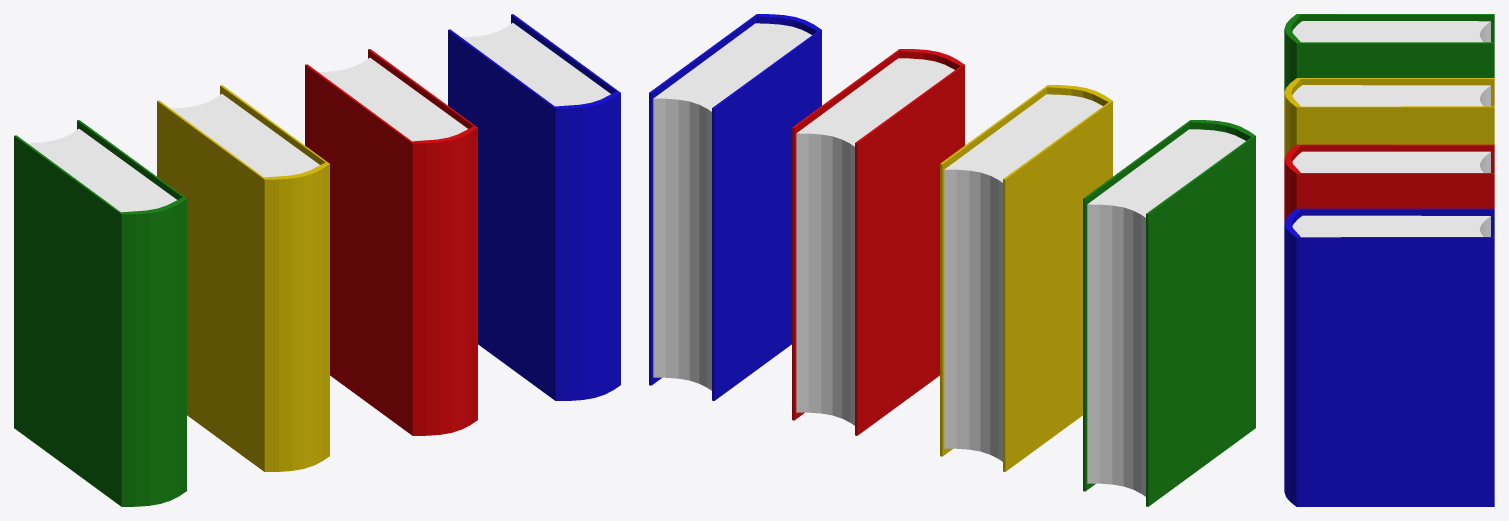
The model's file is libro.fbx.
3 views of the same model, side by side, from view 1: azimuth 30°, elevation 25°; view 2: azimuth 150°, elevation 25°; view 3: azimuth 270°, elevation 25° (orthographic). The views are drawn at different scales.
Parts seen in each view (by area): view 1: Cube.004, Cube.002, Cube.003, Cube.001; view 2: Cube.004, Cube.002, Cube.001, Cube.003; view 3: Cube.001, Cube.003, Cube.002, Cube.004.
Boxes of the visible parts, x1=… form: Cube.004: x1=14, y1=120, x2=186, y2=506; Cube.002: x1=305, y1=49, x2=477, y2=435; Cube.003: x1=157, y1=85, x2=329, y2=471; Cube.001: x1=448, y1=14, x2=620, y2=400; Cube.004: x1=1083, y1=120, x2=1255, y2=506; Cube.002: x1=792, y1=49, x2=964, y2=435; Cube.001: x1=649, y1=14, x2=821, y2=400; Cube.003: x1=940, y1=85, x2=1112, y2=471; Cube.001: x1=1284, y1=208, x2=1494, y2=506; Cube.003: x1=1284, y1=78, x2=1494, y2=158; Cube.002: x1=1284, y1=144, x2=1494, y2=222; Cube.004: x1=1284, y1=14, x2=1494, y2=92.
Bounding box in the file's own units: 561 × 314 × 222.
